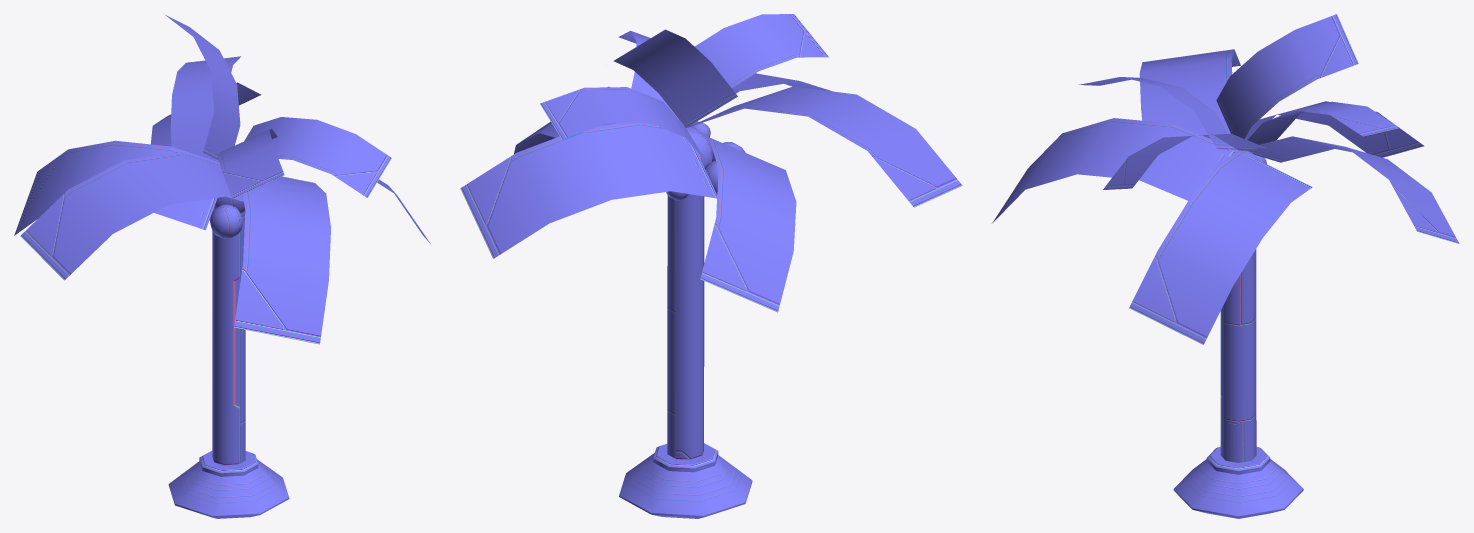
File: Holo_Palm.fbx
The picture shows the model from 3 angles, left to right: view 1: azimuth 30°, elevation 25°; view 2: azimuth 150°, elevation 25°; view 3: azimuth 270°, elevation 25°; orthographic projection. The views are drawn at different scales.
Parts seen in each view (by area): view 1: polySurface17; view 2: polySurface17; view 3: polySurface17.
Part boxes in pixels (box(x1,y1,x2,y2)): polySurface17: box(14, 15, 431, 518); polySurface17: box(460, 14, 962, 518); polySurface17: box(992, 14, 1459, 518).
Bounding box in the file's own units: 6.07 × 6.9 × 6.14.
